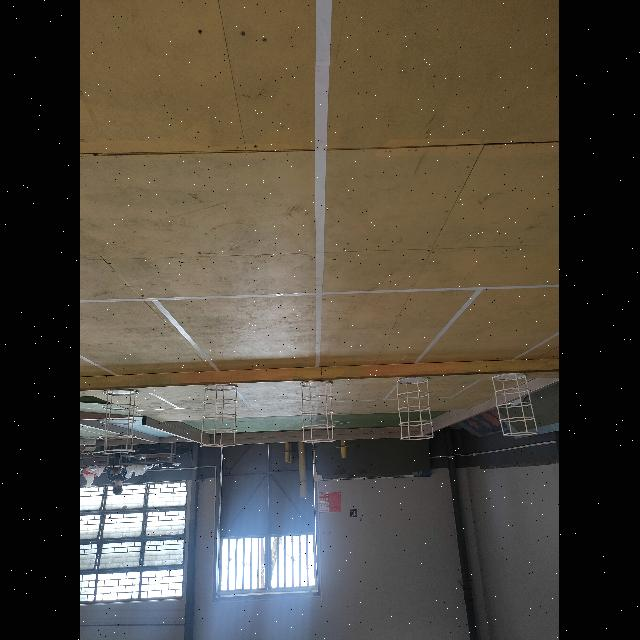S: (492, 373, 540, 436), (98, 389, 139, 454), (397, 377, 435, 441), (200, 384, 238, 447), (300, 381, 336, 443)
